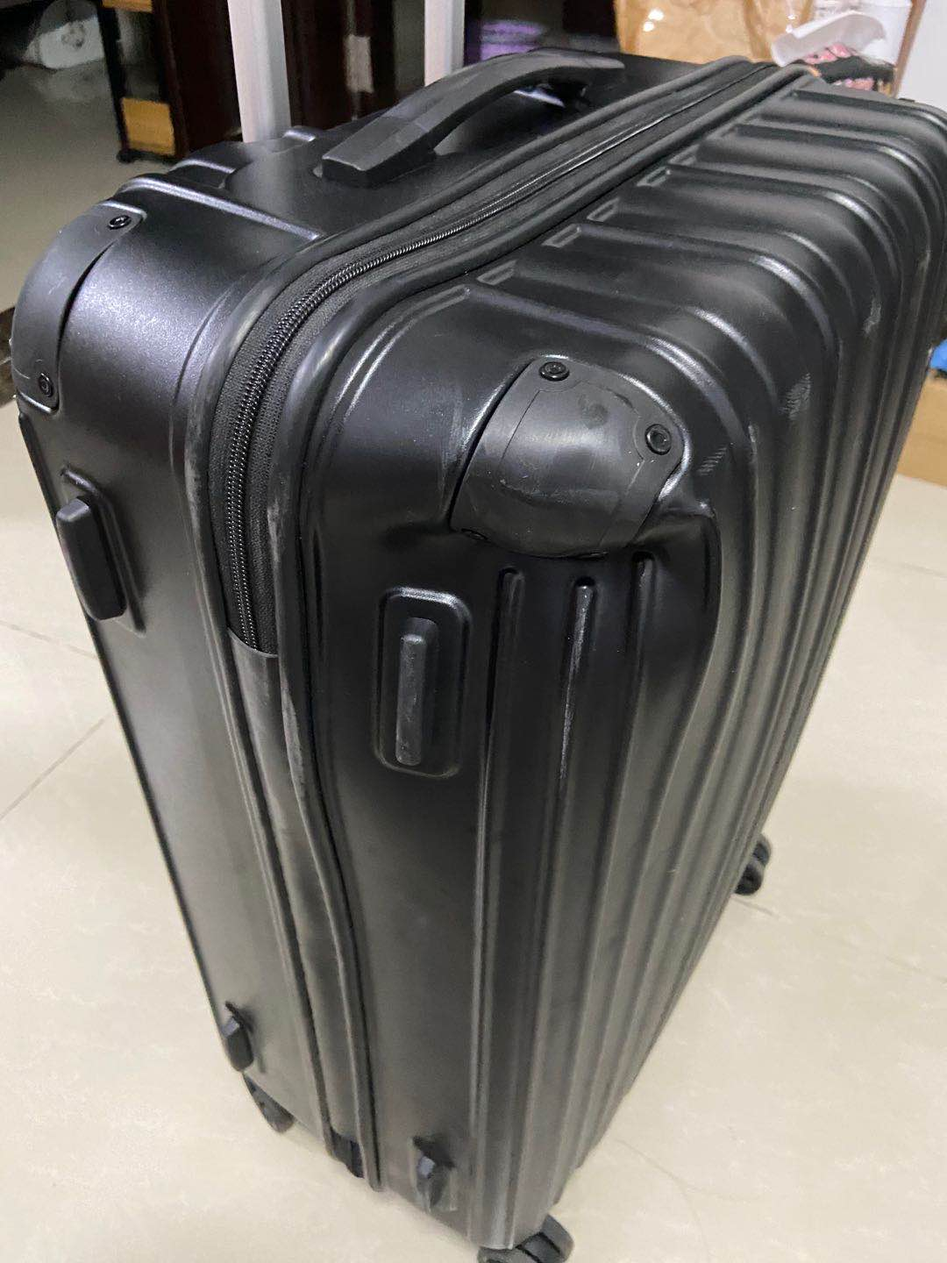rupture: (374, 482, 734, 693)
